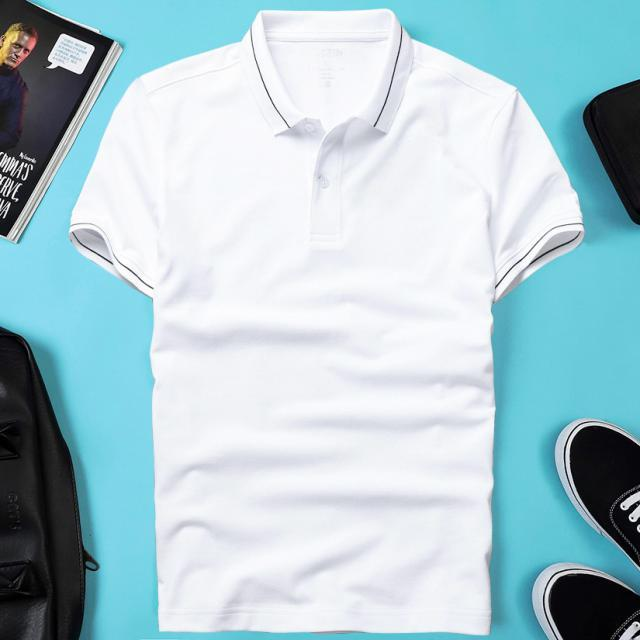Shirt: (67, 11, 586, 636)
